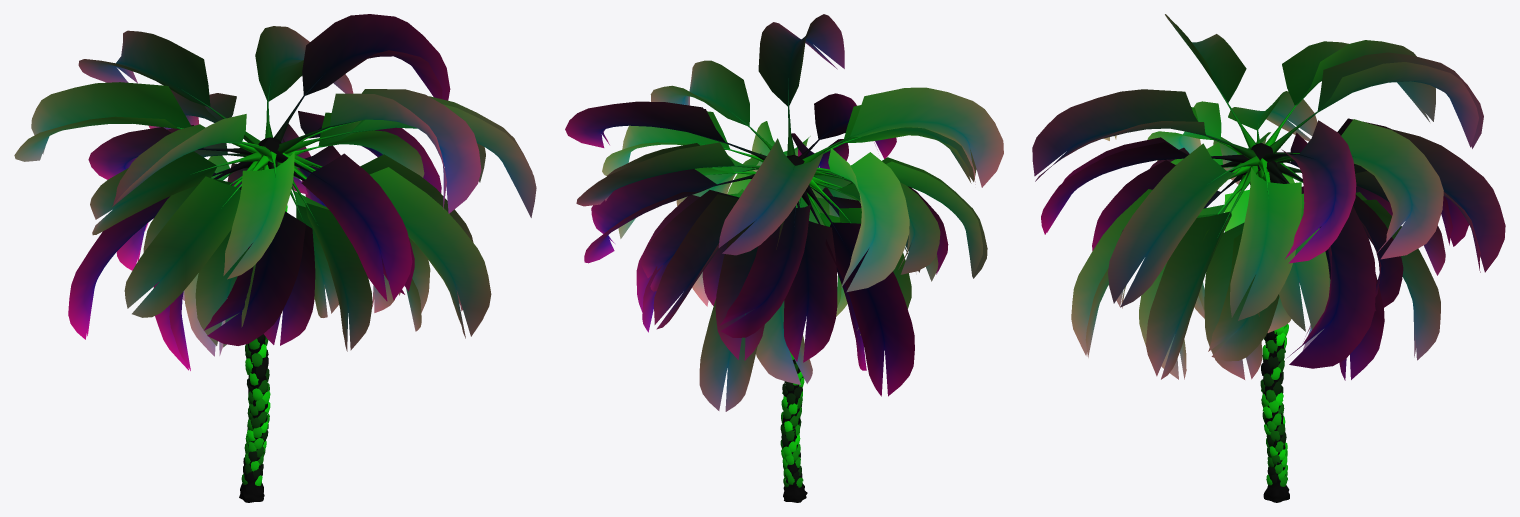
File: mv_PalmB.fbx
3 renders of one model, left to right at view 1: azimuth 30°, elevation 25°; view 2: azimuth 150°, elevation 25°; view 3: azimuth 270°, elevation 25°, orthographic. The views are drawn at different scales.
Parts seen in each view (by area): view 1: mv_PalmB_LOD0; view 2: mv_PalmB_LOD0; view 3: mv_PalmB_LOD0.
Part boxes in pixels (x1=…): mv_PalmB_LOD0: x1=14, y1=14, x2=536, y2=502; mv_PalmB_LOD0: x1=565, y1=14, x2=1003, y2=502; mv_PalmB_LOD0: x1=1032, y1=14, x2=1505, y2=502.
Size of what is drawn, in the model's own units: 415 by 439 by 433.
